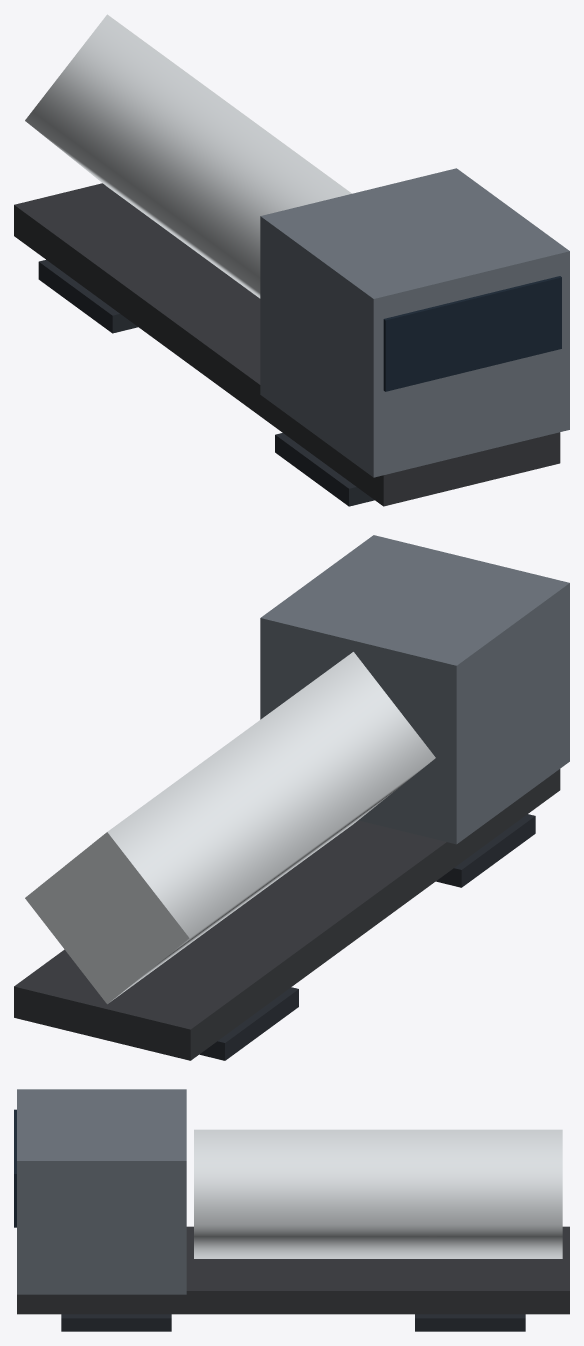
The model's file is veh_ground_tanker_a10_lod2.glb.
3 renders of one model, top to bottom at view 1: azimuth 30°, elevation 25°; view 2: azimuth 150°, elevation 25°; view 3: azimuth 270°, elevation 25°, orthographic. The views are drawn at different scales.
Visible parts, largest first — view 1: body; view 2: body; view 3: body.
Boxes of the visible parts, x1,y1,x2,y2 form: body: [14, 14, 569, 506]; body: [14, 535, 569, 1060]; body: [14, 1089, 569, 1331].
Size of the model in its own units: 2.3 by 2.64 by 7.54.
